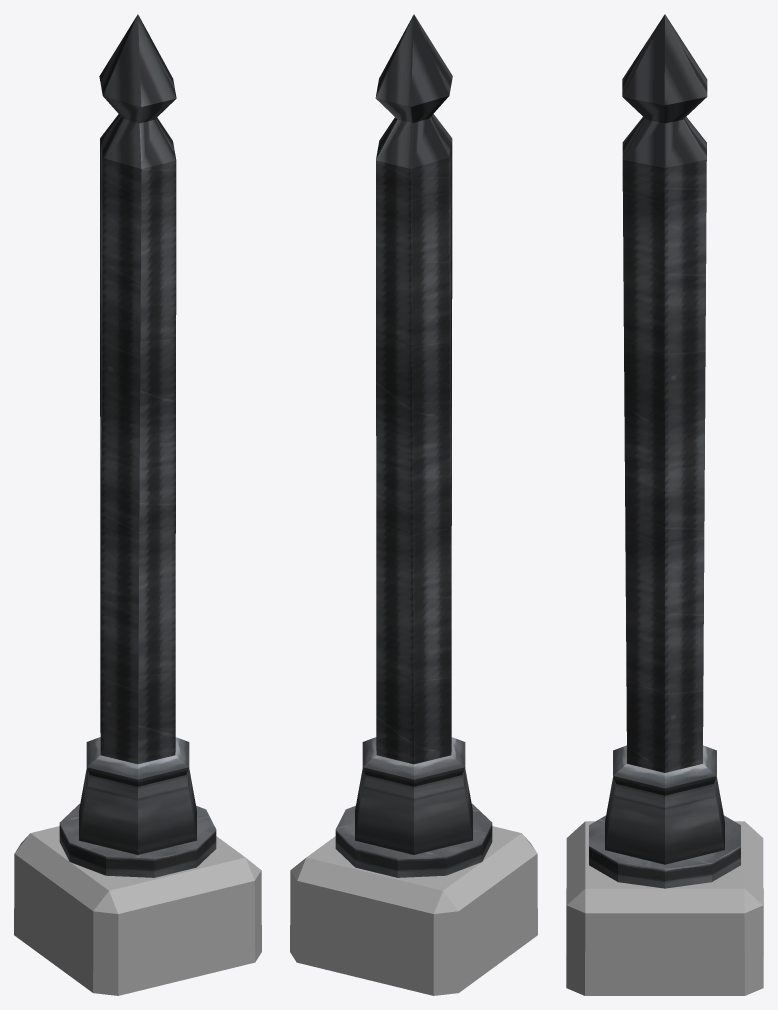
Rendered from adv2_fence_pole.fbx.
3 renders of one model, left to right at view 1: azimuth 30°, elevation 25°; view 2: azimuth 150°, elevation 25°; view 3: azimuth 270°, elevation 25°, orthographic.
Parts seen in each view (by area): view 1: Default_Layer; view 2: Default_Layer; view 3: Default_Layer.
Part boxes in pixels (x1,y1,x2,y2): Default_Layer: (14,14,261,995); Default_Layer: (290,14,537,995); Default_Layer: (566,14,763,995).
Bounding box in the file's own units: 28.65 × 151 × 28.68.
